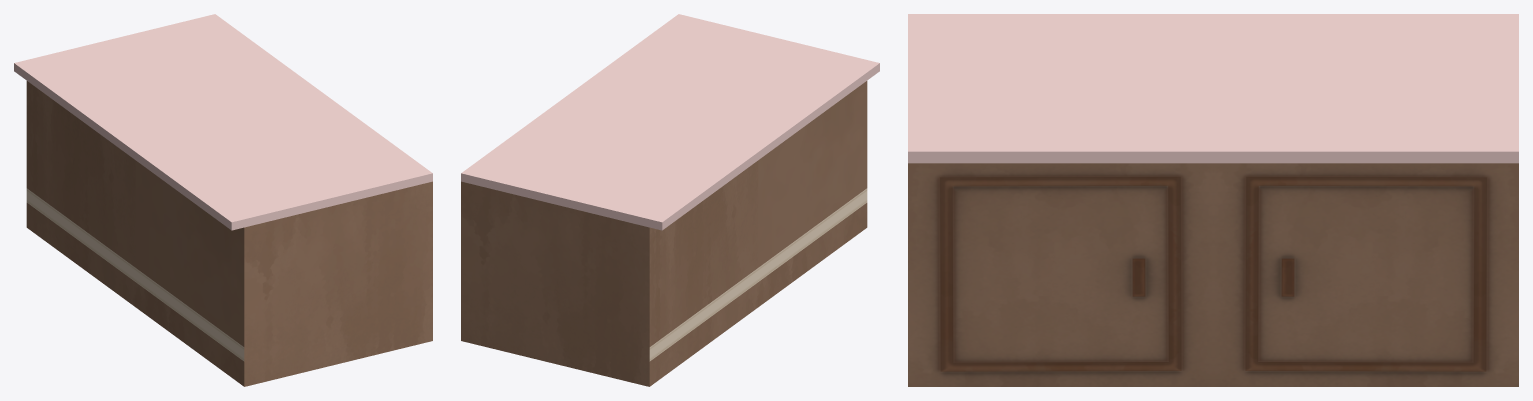
File: Counter1.fbx
3 views of the same model, side by side, from view 1: azimuth 30°, elevation 25°; view 2: azimuth 150°, elevation 25°; view 3: azimuth 270°, elevation 25° (orthographic). The views are drawn at different scales.
Visible parts, largest first — view 1: pCube391; view 2: pCube391; view 3: pCube391.
Part boxes in pixels (left/top/right/bottom): pCube391: left=14, top=14, right=432, bottom=386; pCube391: left=461, top=14, right=879, bottom=386; pCube391: left=908, top=14, right=1518, bottom=386.
Size of the model in its own units: 107 by 85 by 200.
